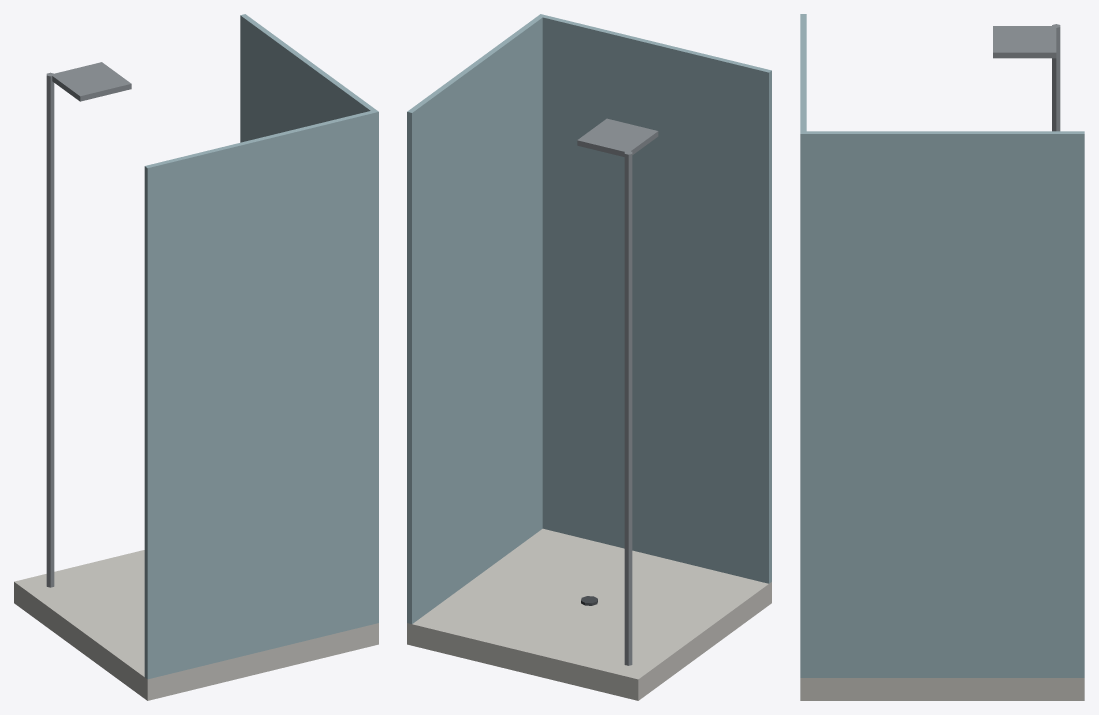
The model's file is shower.glb.
3 renders of one model, left to right at view 1: azimuth 30°, elevation 25°; view 2: azimuth 150°, elevation 25°; view 3: azimuth 270°, elevation 25°, orthographic. The views are drawn at different scales.
Parts seen in each view (by area): view 1: shower; view 2: shower; view 3: shower.
Boxes of the visible parts, x1,y1,x2,y2 form: shower: [14, 14, 378, 700]; shower: [407, 14, 771, 700]; shower: [800, 14, 1084, 700].
Size of the model in its own units: 0.9 by 1.98 by 0.9.
